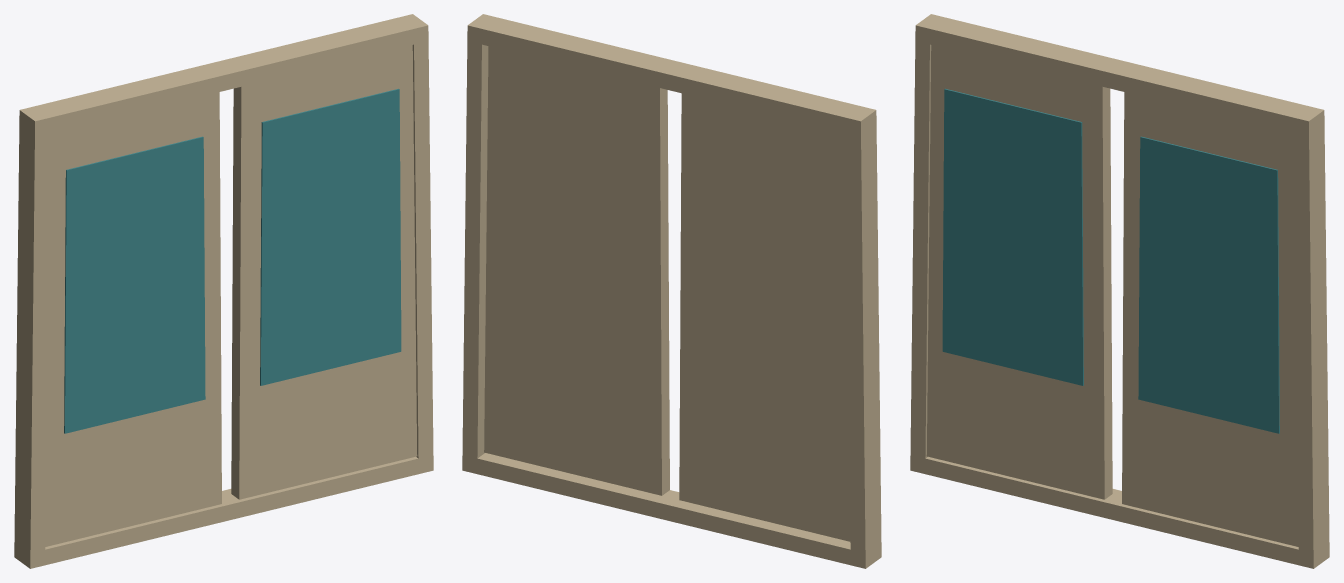
Rendered from entry.glb.
3 views of the same model, side by side, from view 1: azimuth 30°, elevation 25°; view 2: azimuth 150°, elevation 25°; view 3: azimuth 330°, elevation 25° (orthographic).
Parts seen in each view (by area): view 1: WB002V2_EntryDoorFrame.005, WB002V2_EntryDoorGlass.001; view 2: WB002V2_EntryDoorFrame.005; view 3: WB002V2_EntryDoorFrame.005, WB002V2_EntryDoorGlass.001.
Part boxes in pixels (x1,y1,x2,y2): WB002V2_EntryDoorFrame.005: (14,14,433,568); WB002V2_EntryDoorGlass.001: (64,88,401,433); WB002V2_EntryDoorFrame.005: (462,14,881,568); WB002V2_EntryDoorFrame.005: (910,14,1329,568); WB002V2_EntryDoorGlass.001: (942,88,1279,433).
Size of the model in its own units: 3.5 by 3.7 by 0.258.
